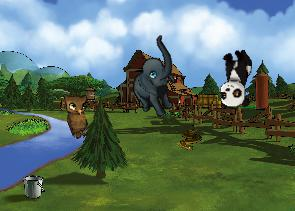elephant: (114, 34, 198, 123)
owl: (58, 87, 100, 140)
panda: (218, 48, 252, 109)
